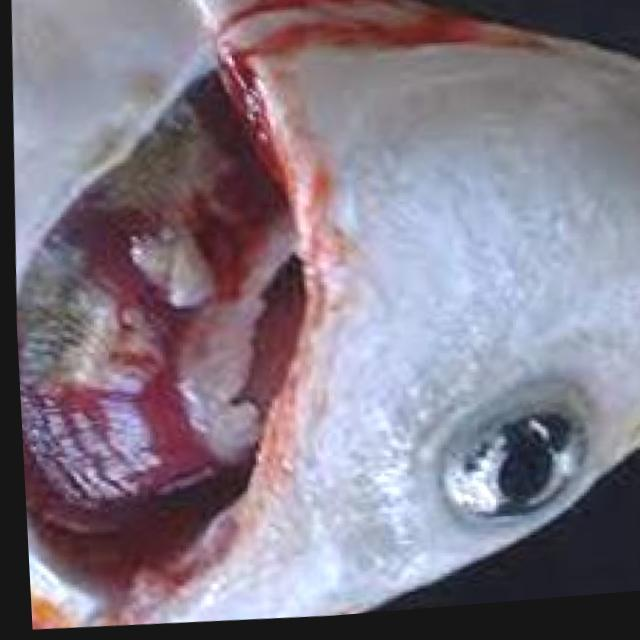Gill Disease: (16, 8, 602, 630)
